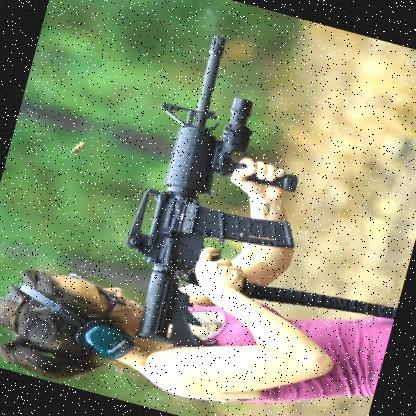rifle: (103, 18, 344, 375)
